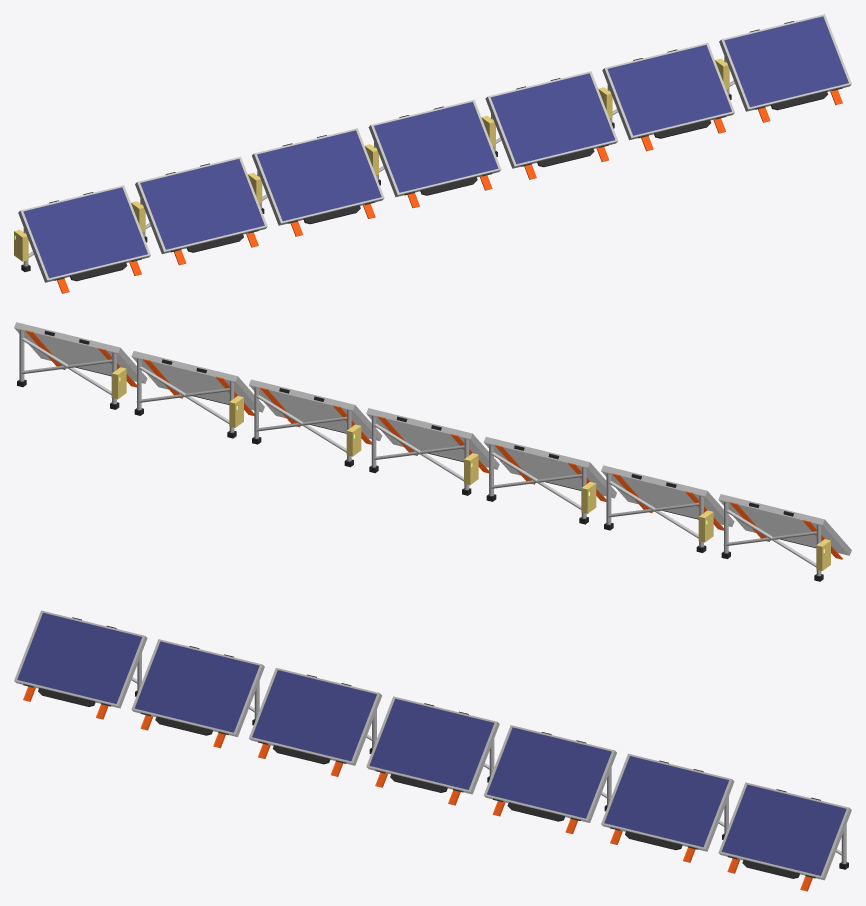
File: SolarPanel.fbx
3 views of the same model, one above another, from view 1: azimuth 30°, elevation 25°; view 2: azimuth 150°, elevation 25°; view 3: azimuth 330°, elevation 25° (orthographic).
Parts seen in each view (by area): view 1: Solar Panel; view 2: Solar Panel; view 3: Solar Panel.
Part boxes in pixels (left/top/right/bottom): Solar Panel: left=14, top=14, right=851, bottom=293; Solar Panel: left=14, top=322, right=851, bottom=581; Solar Panel: left=14, top=610, right=851, bottom=891.
Size of the model in its own units: 1764 by 135 by 131.
